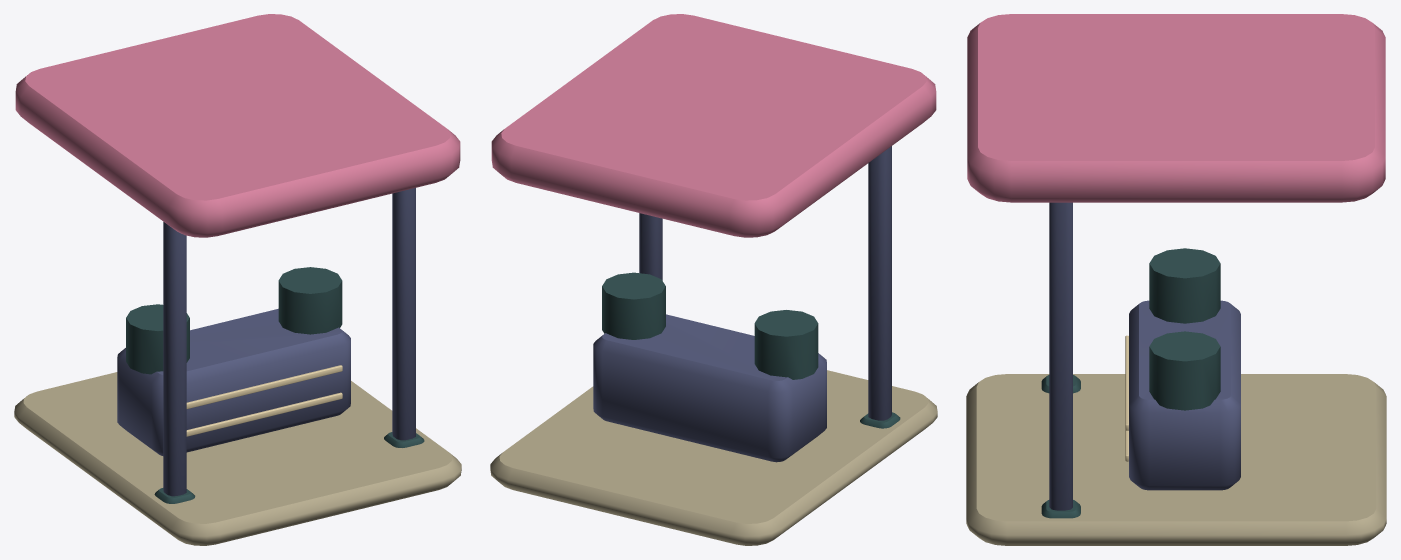
The model's file is japan_tuning_2.glb.
3 views of the same model, side by side, from view 1: azimuth 30°, elevation 25°; view 2: azimuth 150°, elevation 25°; view 3: azimuth 270°, elevation 25° (orthographic). The views are drawn at different scales.
Visible parts, largest first — view 1: JapanTuning2; view 2: JapanTuning2; view 3: JapanTuning2.
Part boxes in pixels (left/top/right/bottom): JapanTuning2: left=14, top=14, right=461, bottom=545; JapanTuning2: left=490, top=14, right=937, bottom=545; JapanTuning2: left=966, top=14, right=1386, bottom=545.
Size of the model in its own units: 2.18 by 2.51 by 2.48.
